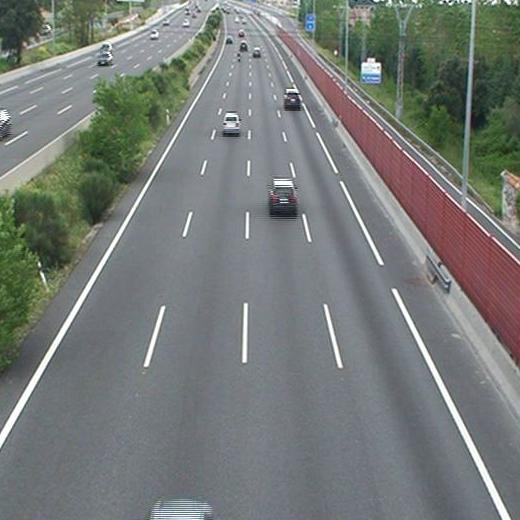car: (268, 179, 297, 212), (223, 113, 240, 134), (284, 90, 301, 107), (252, 47, 260, 55), (239, 41, 246, 49), (225, 37, 231, 44)
motorcycle: (235, 50, 242, 61)
